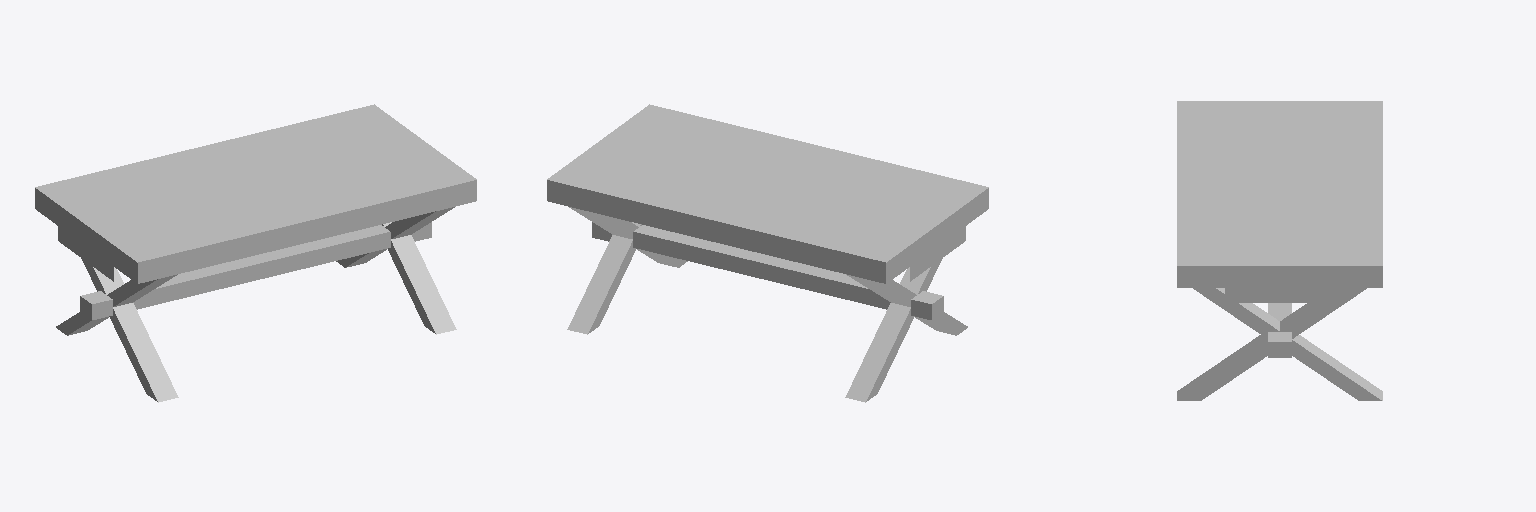
The model's file is tableCrossCloth.obj.
3 views of the same model, side by side, from view 1: azimuth 30°, elevation 25°; view 2: azimuth 150°, elevation 25°; view 3: azimuth 270°, elevation 25° (orthographic).
Visible parts, largest first — view 1: tableCrossCloth; view 2: tableCrossCloth; view 3: tableCrossCloth.
Part boxes in pixels (x1,y1,x2,y2): tableCrossCloth: (35,104,476,402); tableCrossCloth: (547,104,988,402); tableCrossCloth: (1177,101,1382,400).
Bounding box in the file's own units: 0.8521 × 0.3474 × 0.4474.